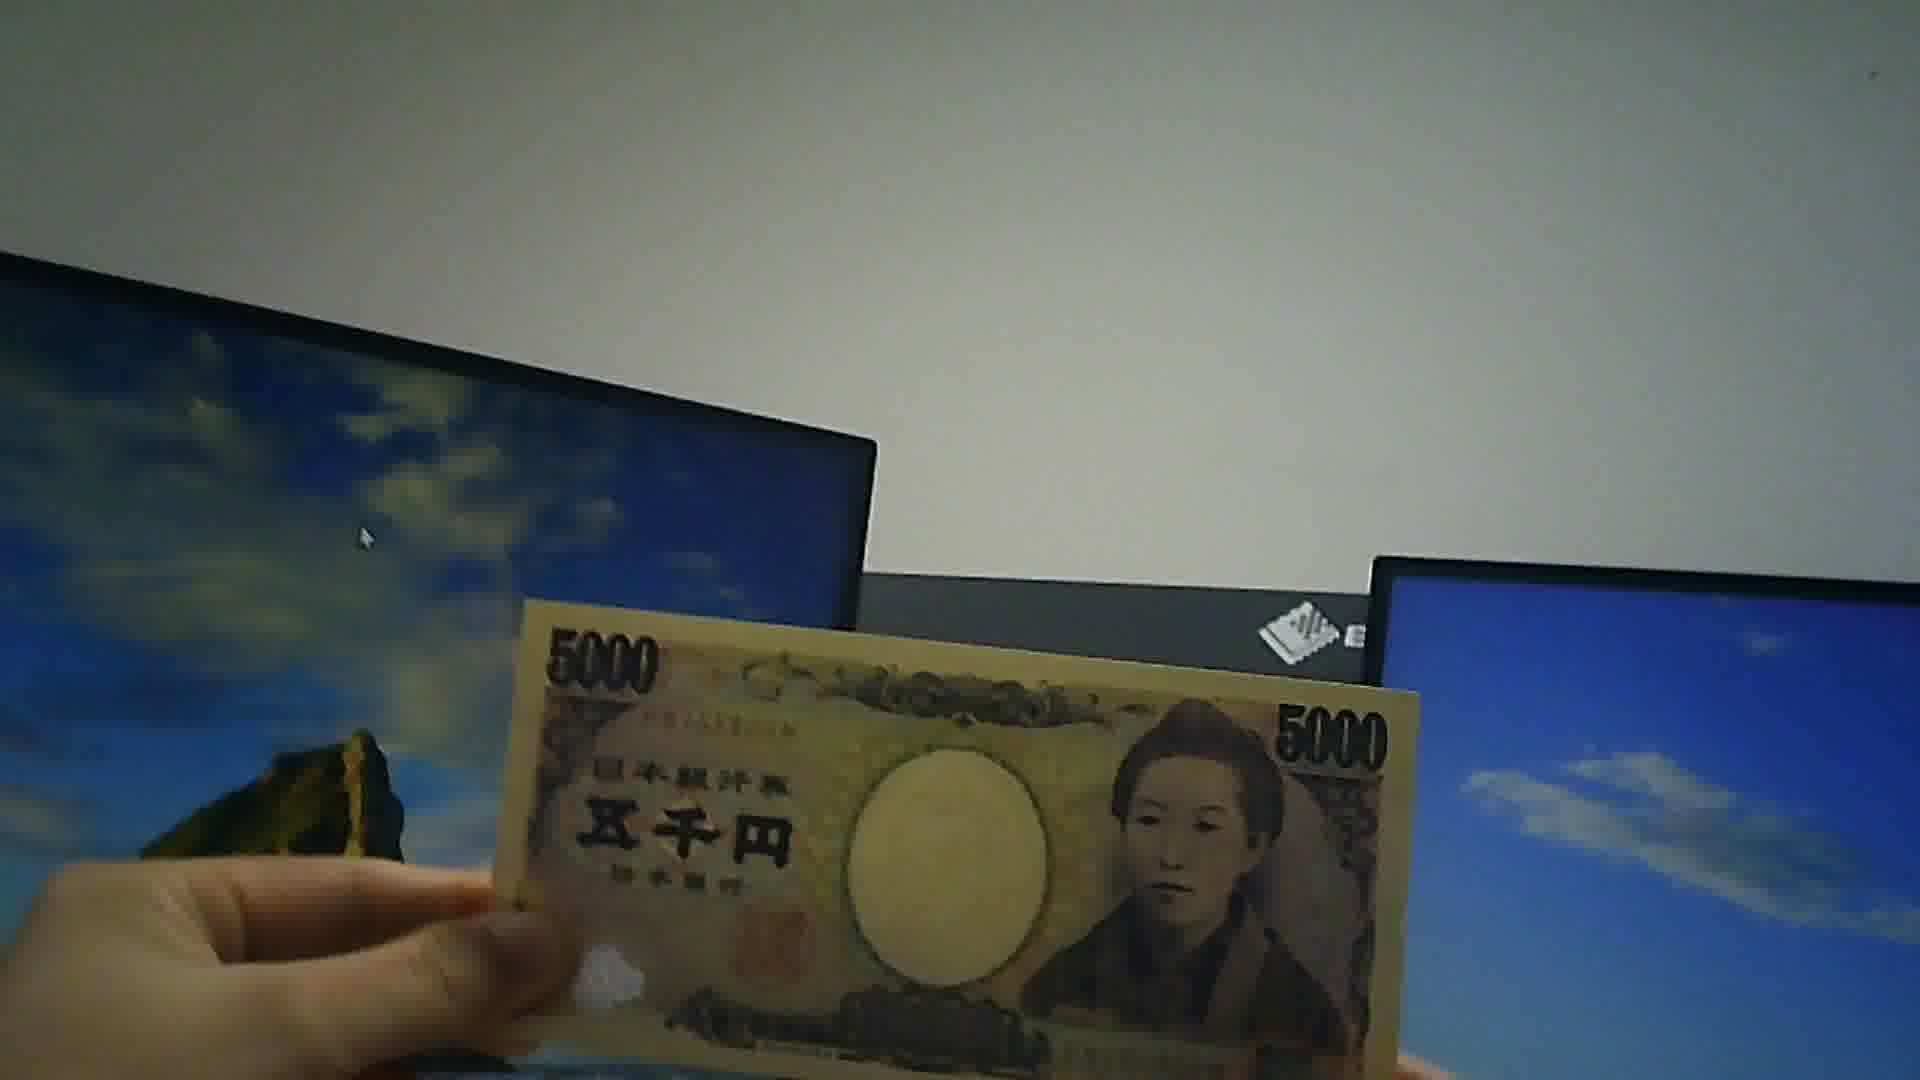5,000 Yen: (473, 592, 1418, 1079)
